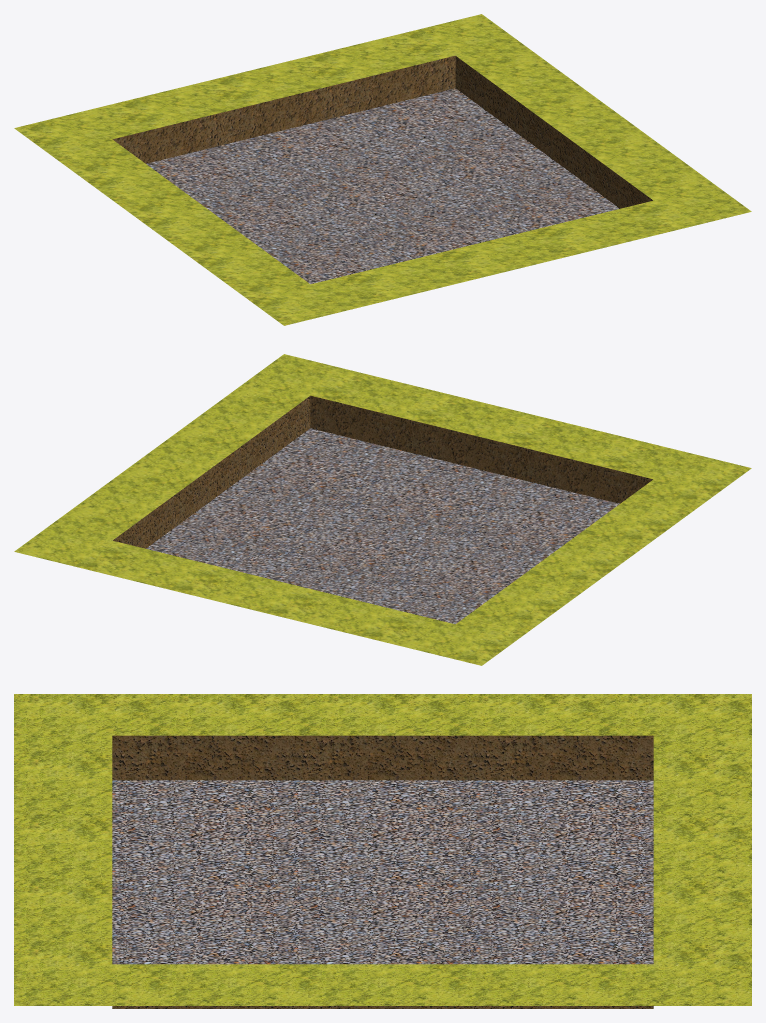
File: Decor_SphereBoy.FBX
3 renders of one model, top to bottom at view 1: azimuth 30°, elevation 25°; view 2: azimuth 150°, elevation 25°; view 3: azimuth 270°, elevation 25°, orthographic. The views are drawn at different scales.
Parts seen in each view (by area): view 1: Decor_Projector; view 2: Decor_Projector; view 3: Decor_Projector.
Part boxes in pixels (x1,y1,x2,y2): Decor_Projector: (14,14,751,325); Decor_Projector: (14,354,751,665); Decor_Projector: (14,694,751,1008).
Size of the model in its own units: 591 by 39.37 by 591.
